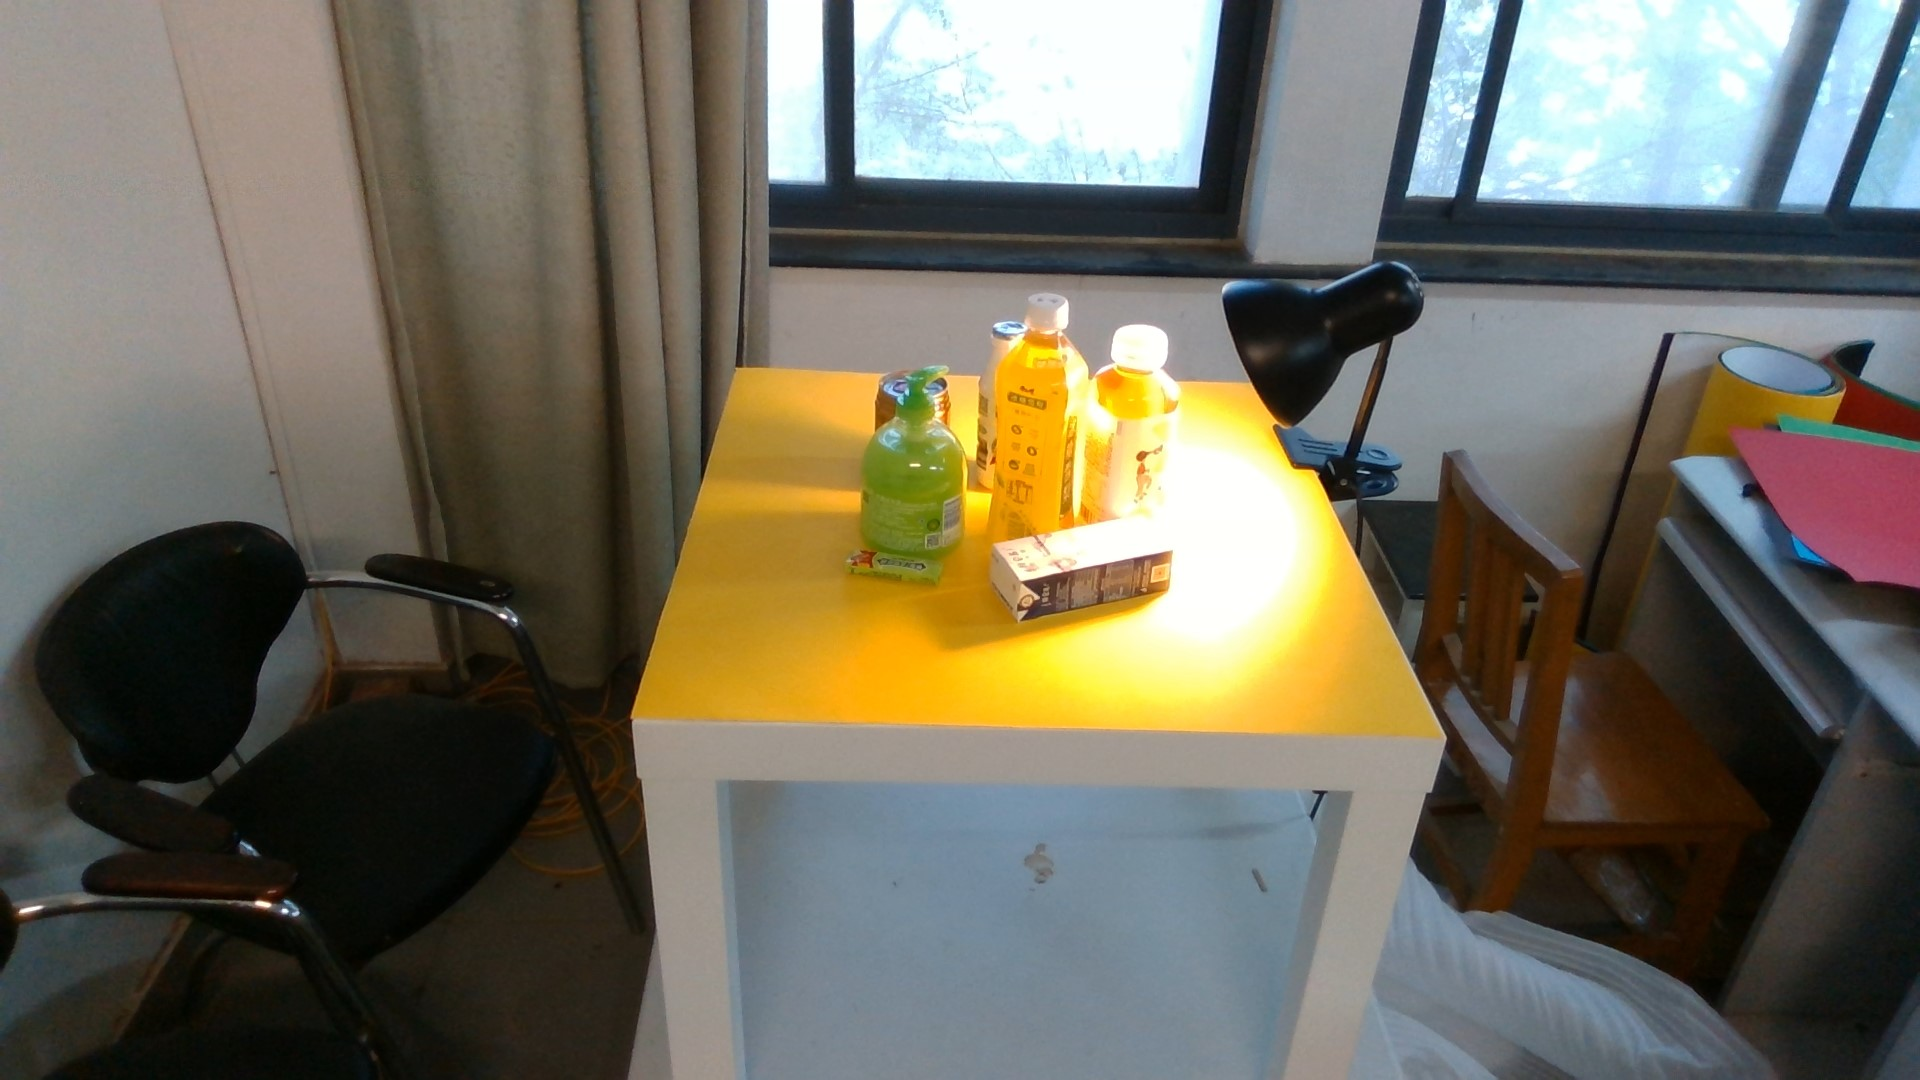BB002: (841, 549, 945, 585)
BB010: (992, 514, 1174, 620)
ZA002: (862, 421, 965, 556)
ZC004: (873, 371, 901, 417)
ZC005: (980, 342, 994, 495)
ZC011: (993, 291, 1093, 527)
ZC012: (1093, 323, 1184, 517)
